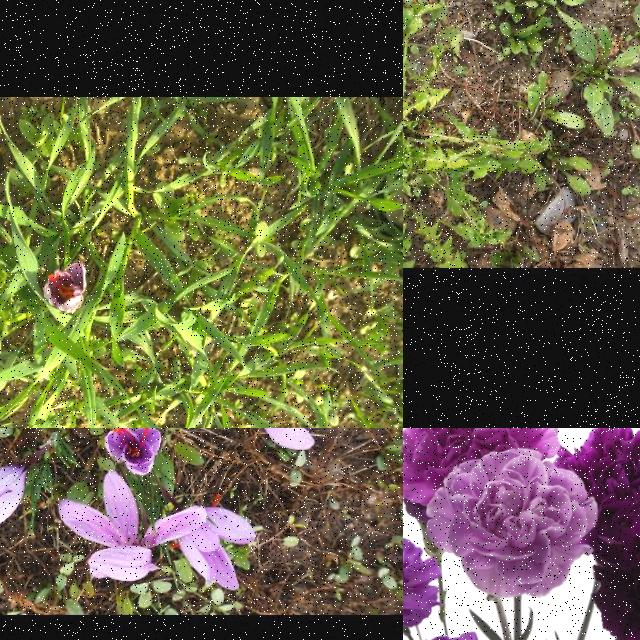flower: (59, 472, 208, 580), (168, 494, 256, 590), (104, 428, 161, 476), (244, 428, 343, 450), (0, 461, 30, 533), (44, 263, 86, 313)
